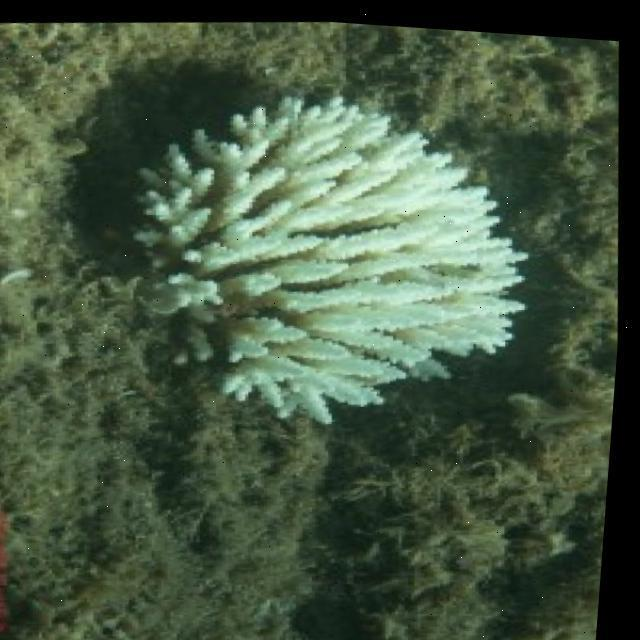Bleached Coral: (110, 105, 538, 411)
